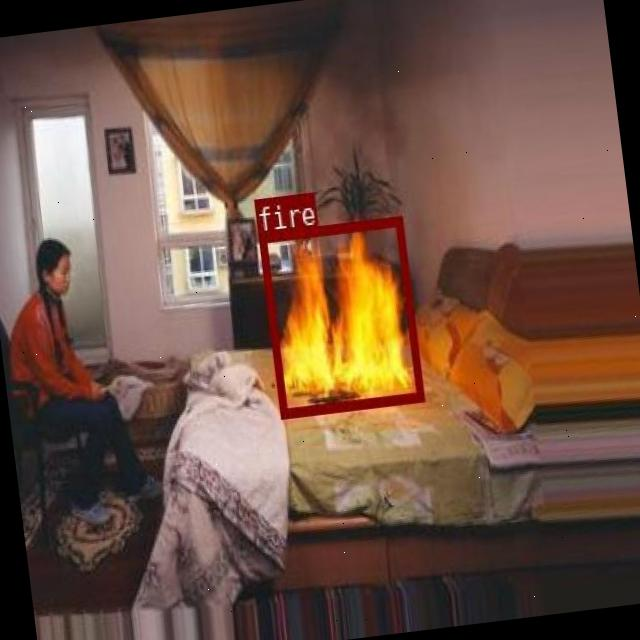fire: (258, 214, 422, 416)
